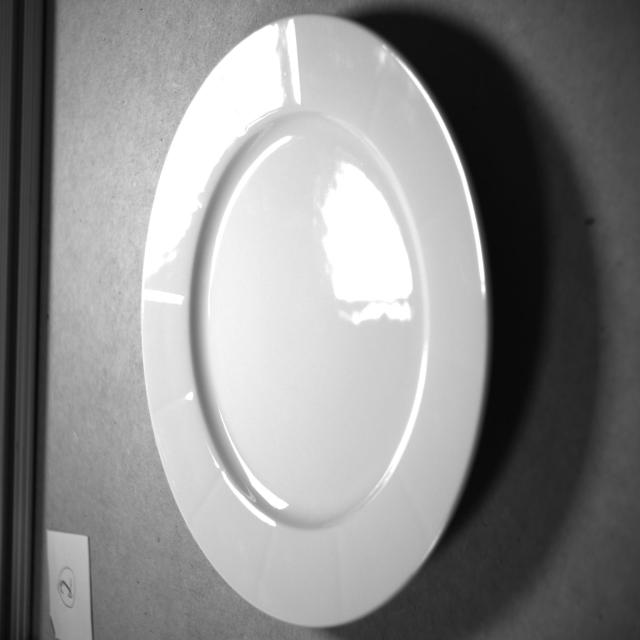plate: (142, 15, 488, 626)
